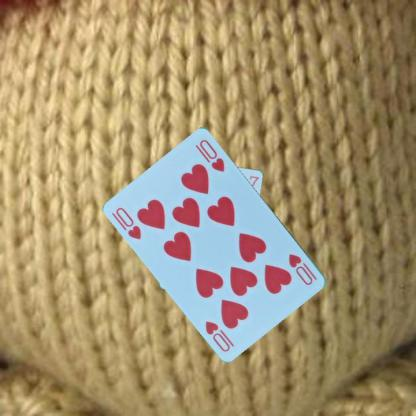10h: (113, 204, 143, 241), (286, 250, 315, 286)
